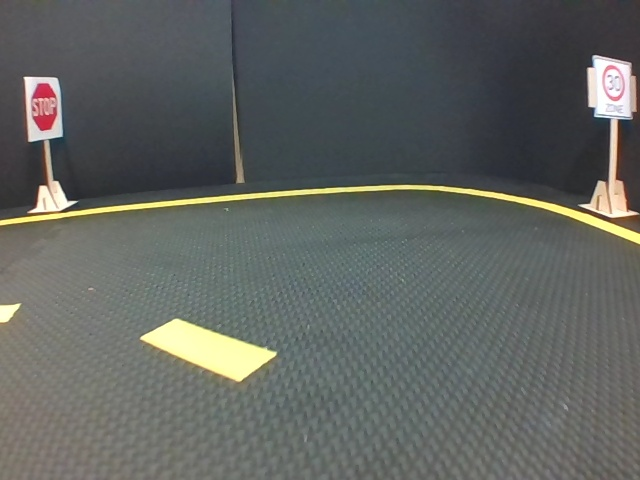30: (594, 58, 631, 118)
stop: (25, 75, 63, 138)
